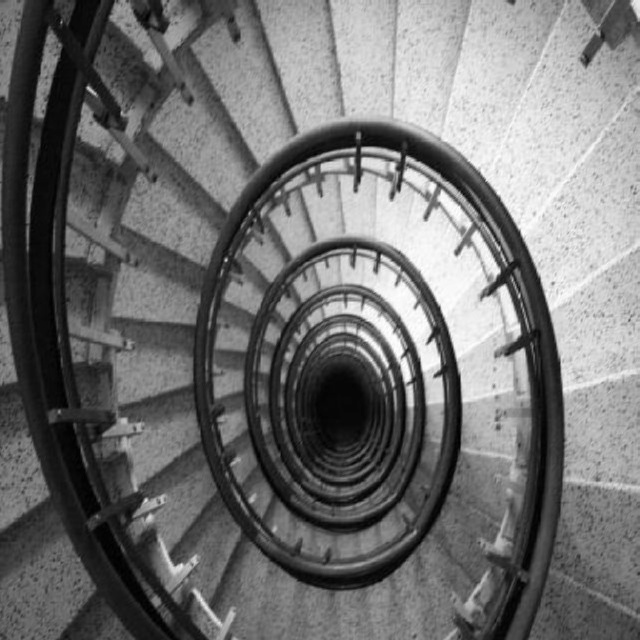stair: (0, 0, 640, 637)
